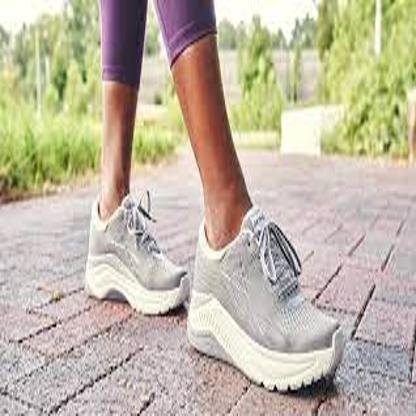not trash: (185, 206, 360, 396), (77, 193, 188, 325)
